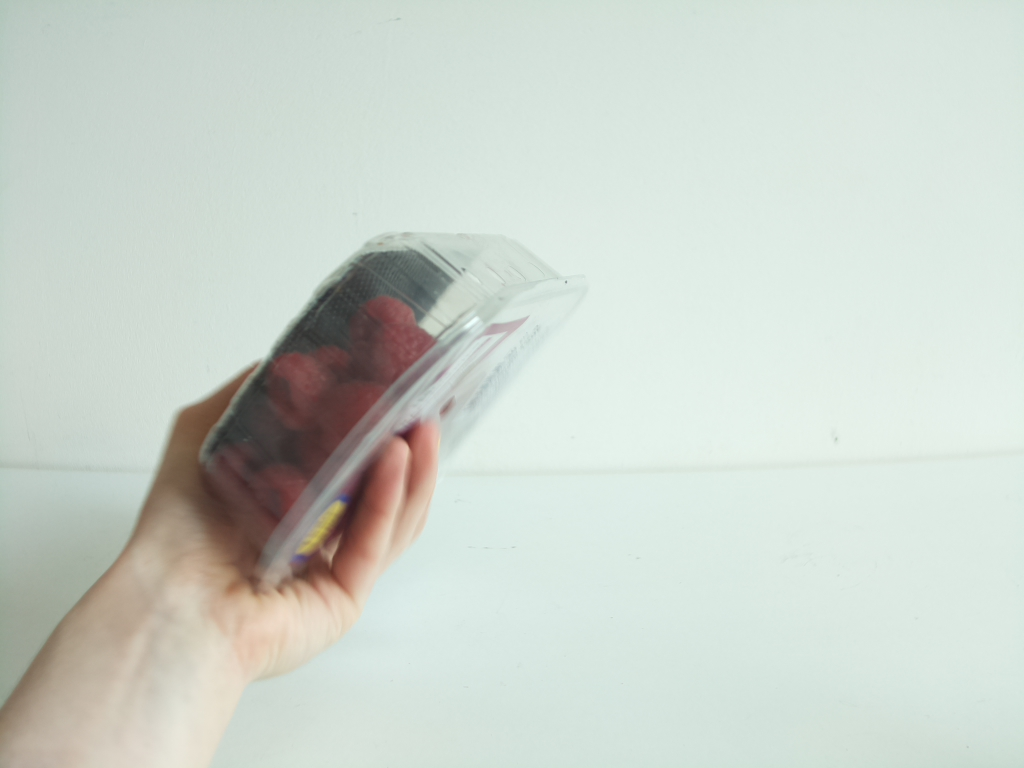soft-fruit: (187, 226, 601, 594)
